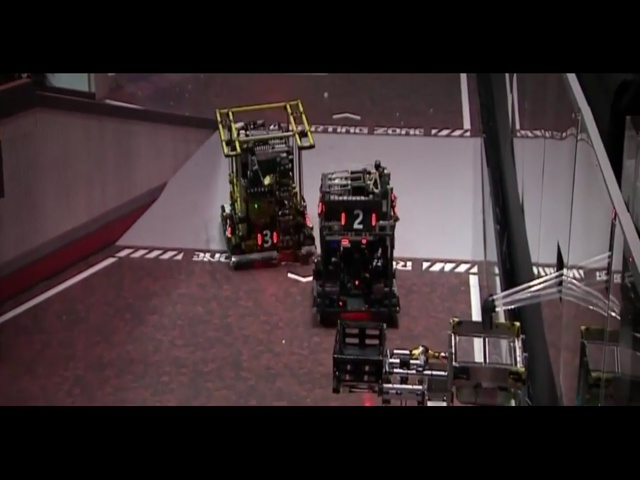bluePlate: (306, 183, 331, 202), (508, 321, 529, 343), (468, 164, 485, 181), (271, 250, 286, 265)
redPlate: (249, 348, 287, 374), (14, 251, 34, 268), (312, 335, 323, 363), (368, 193, 384, 209), (391, 188, 402, 205)
